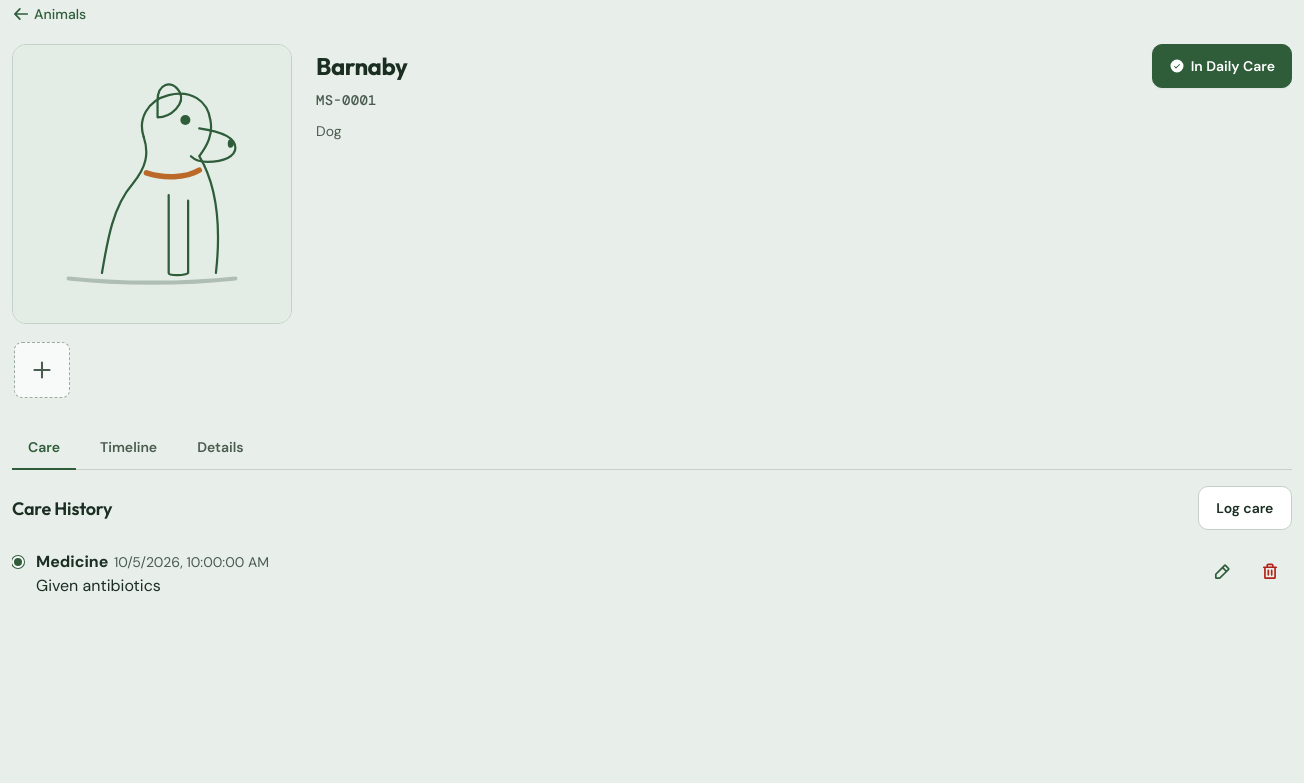
Test: AnimalDetailScreen Dynamic Tabs › respects manual user tab selection across clicks
The width and height of the screenshot is (1304, 783).
Note: Click Timeline
Click the tab "Timeline": coordinates (129, 448) [84,426,173,470]
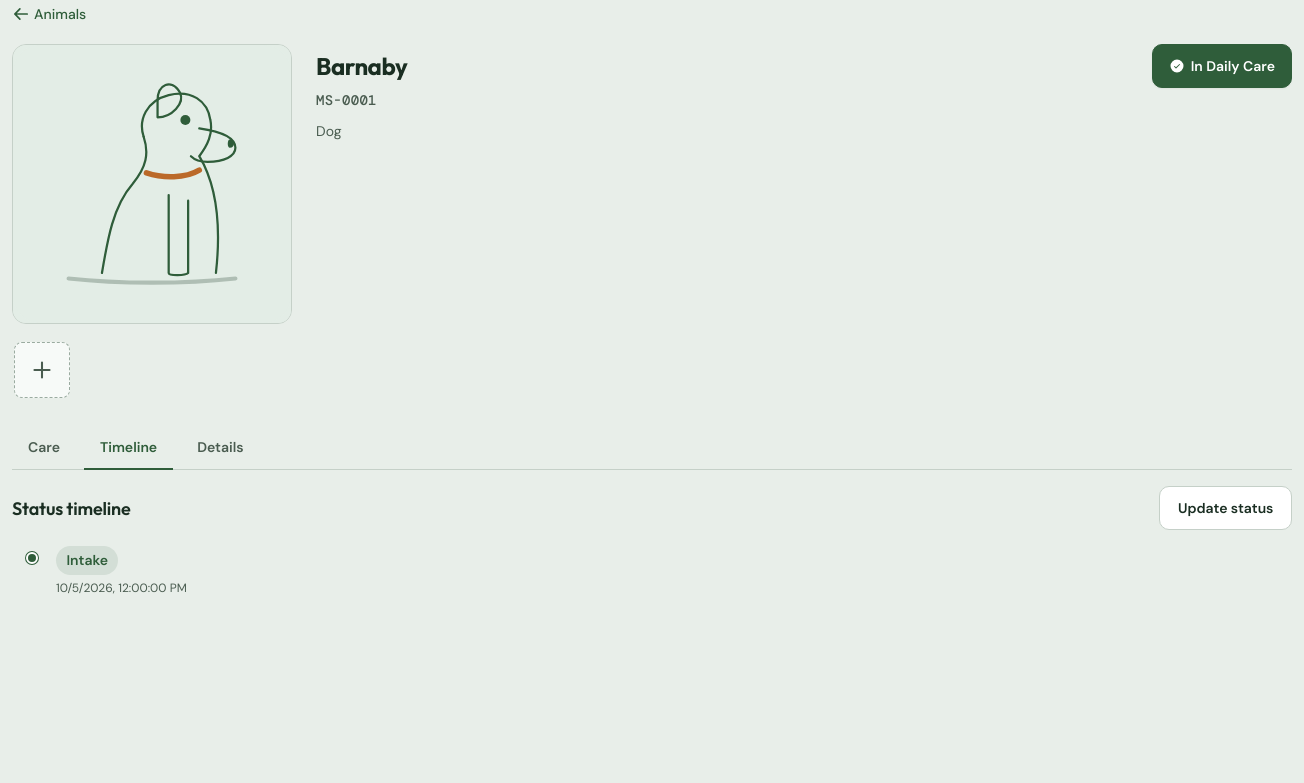
Result: the heading "Status timeline" is shown at [12,495,130,522]
Note: Click Details
Click the tab "Details": coordinates (220, 448) [181,426,260,470]
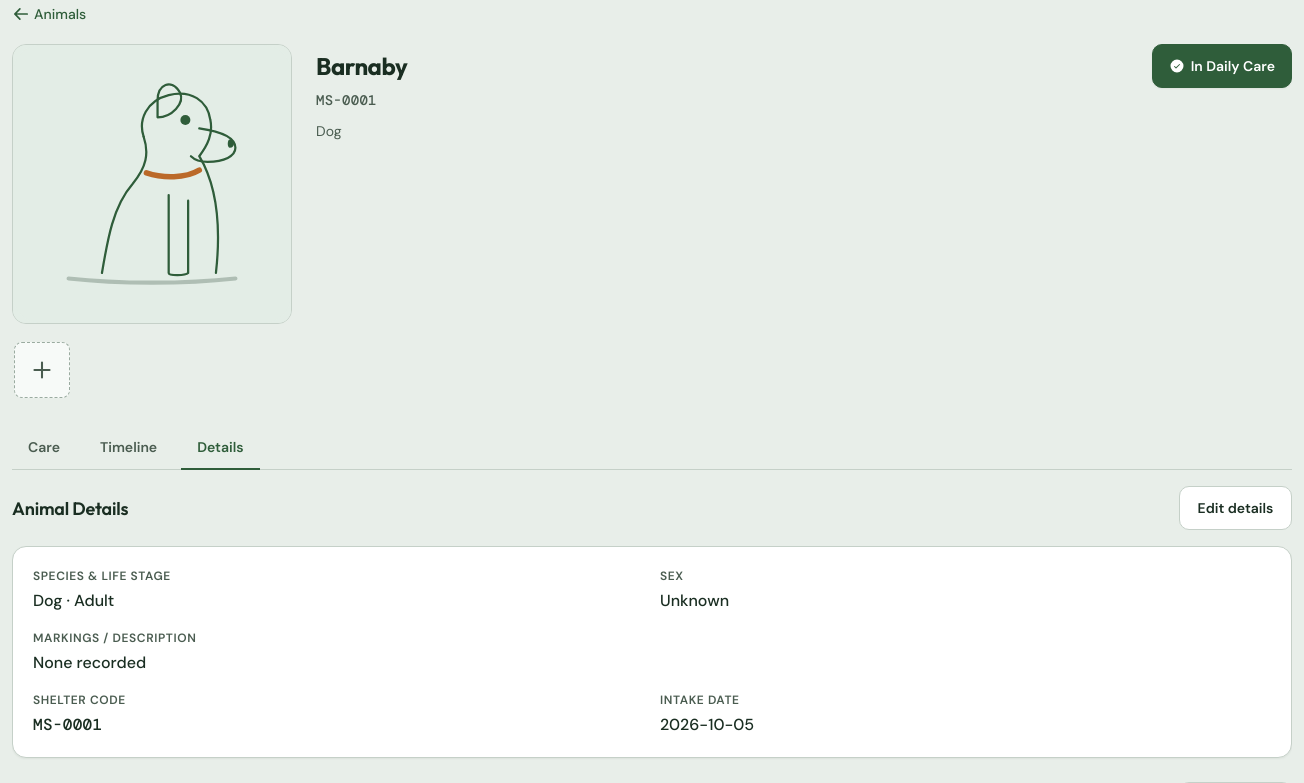
Result: the heading "Animal Details" is shown at [12,495,128,522]
Note: Click back to Care
Click the tab "Care": coordinates (44, 448) [12,426,76,470]
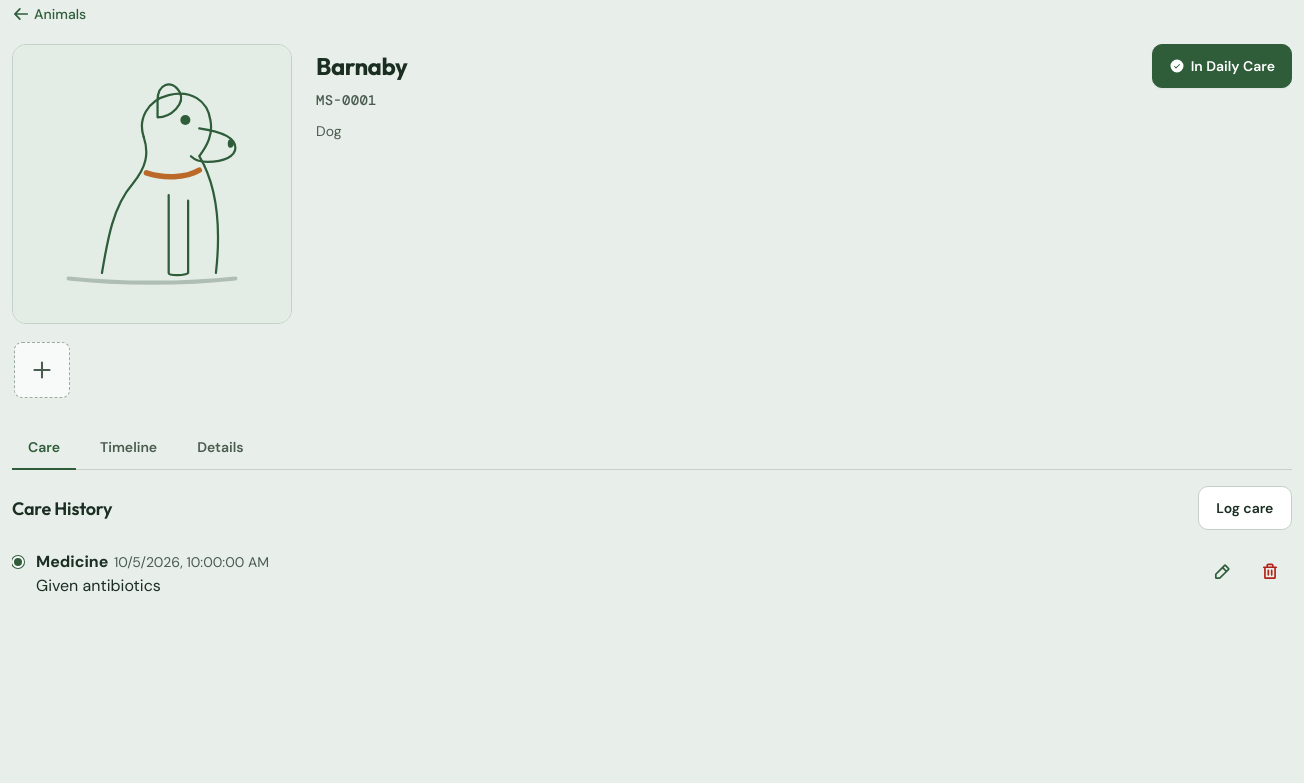
Result: the heading "Care History" is shown at [12,495,112,522]
